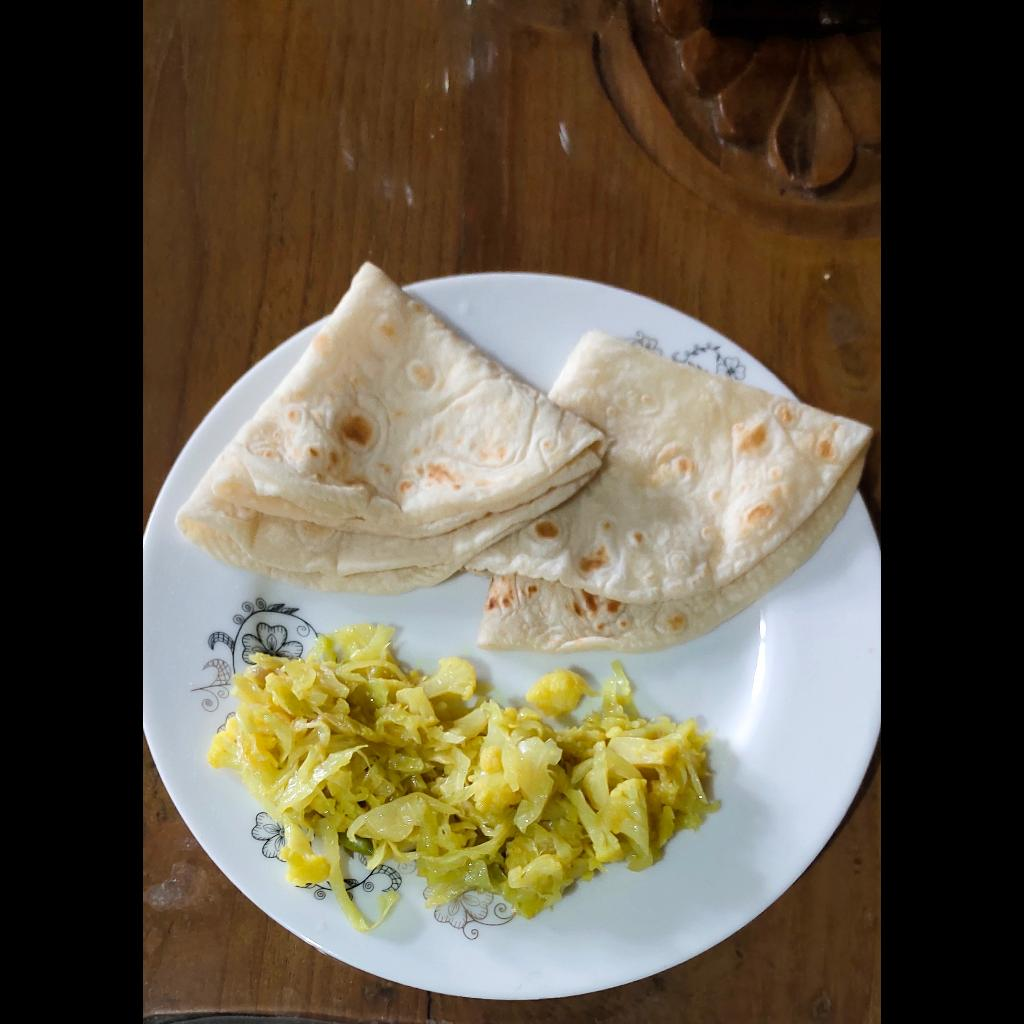cabbage: (205, 614, 638, 934)
cauliflower: (596, 708, 712, 862), (387, 660, 472, 711), (278, 813, 330, 883)
ruti: (171, 260, 874, 658)
